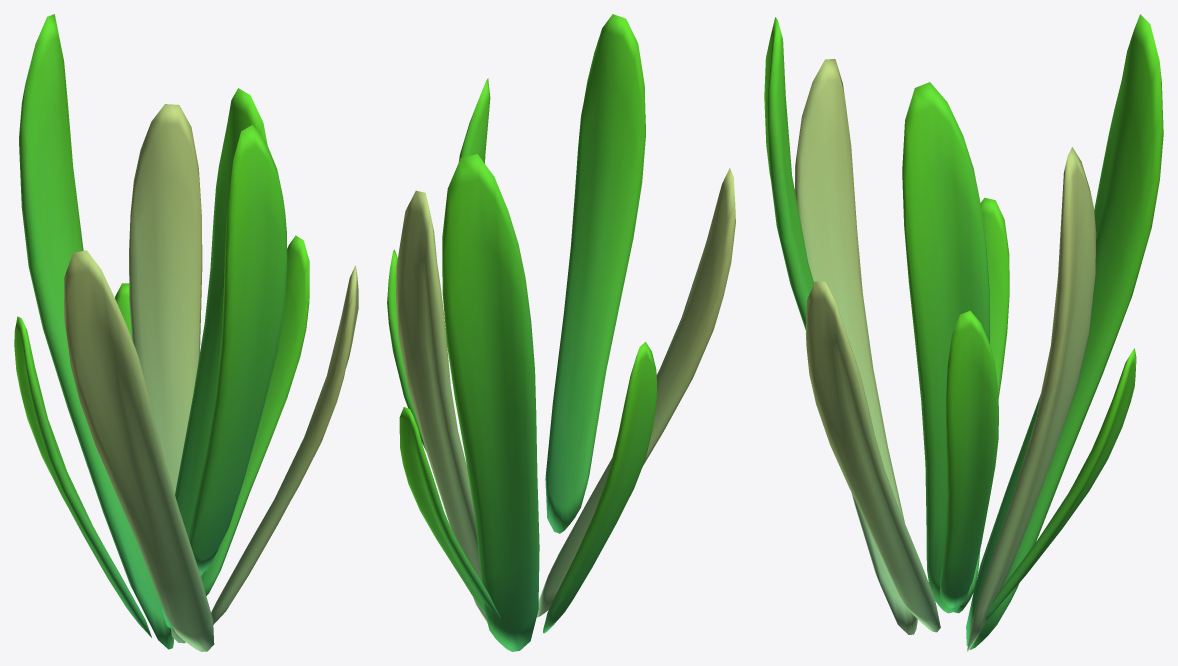
The model's file is SmallShrub.fbx.
3 renders of one model, left to right at view 1: azimuth 30°, elevation 25°; view 2: azimuth 150°, elevation 25°; view 3: azimuth 270°, elevation 25°, orthographic. The views are drawn at different scales.
Visible parts, largest first — view 1: Plane; view 2: Plane; view 3: Plane.
Boxes of the visible parts, box(x1,y1,x2,y2) form: Plane: box(14, 14, 358, 651); Plane: box(387, 14, 735, 651); Plane: box(764, 14, 1163, 651).
Bounding box in the file's own units: 141 × 269 × 156.
